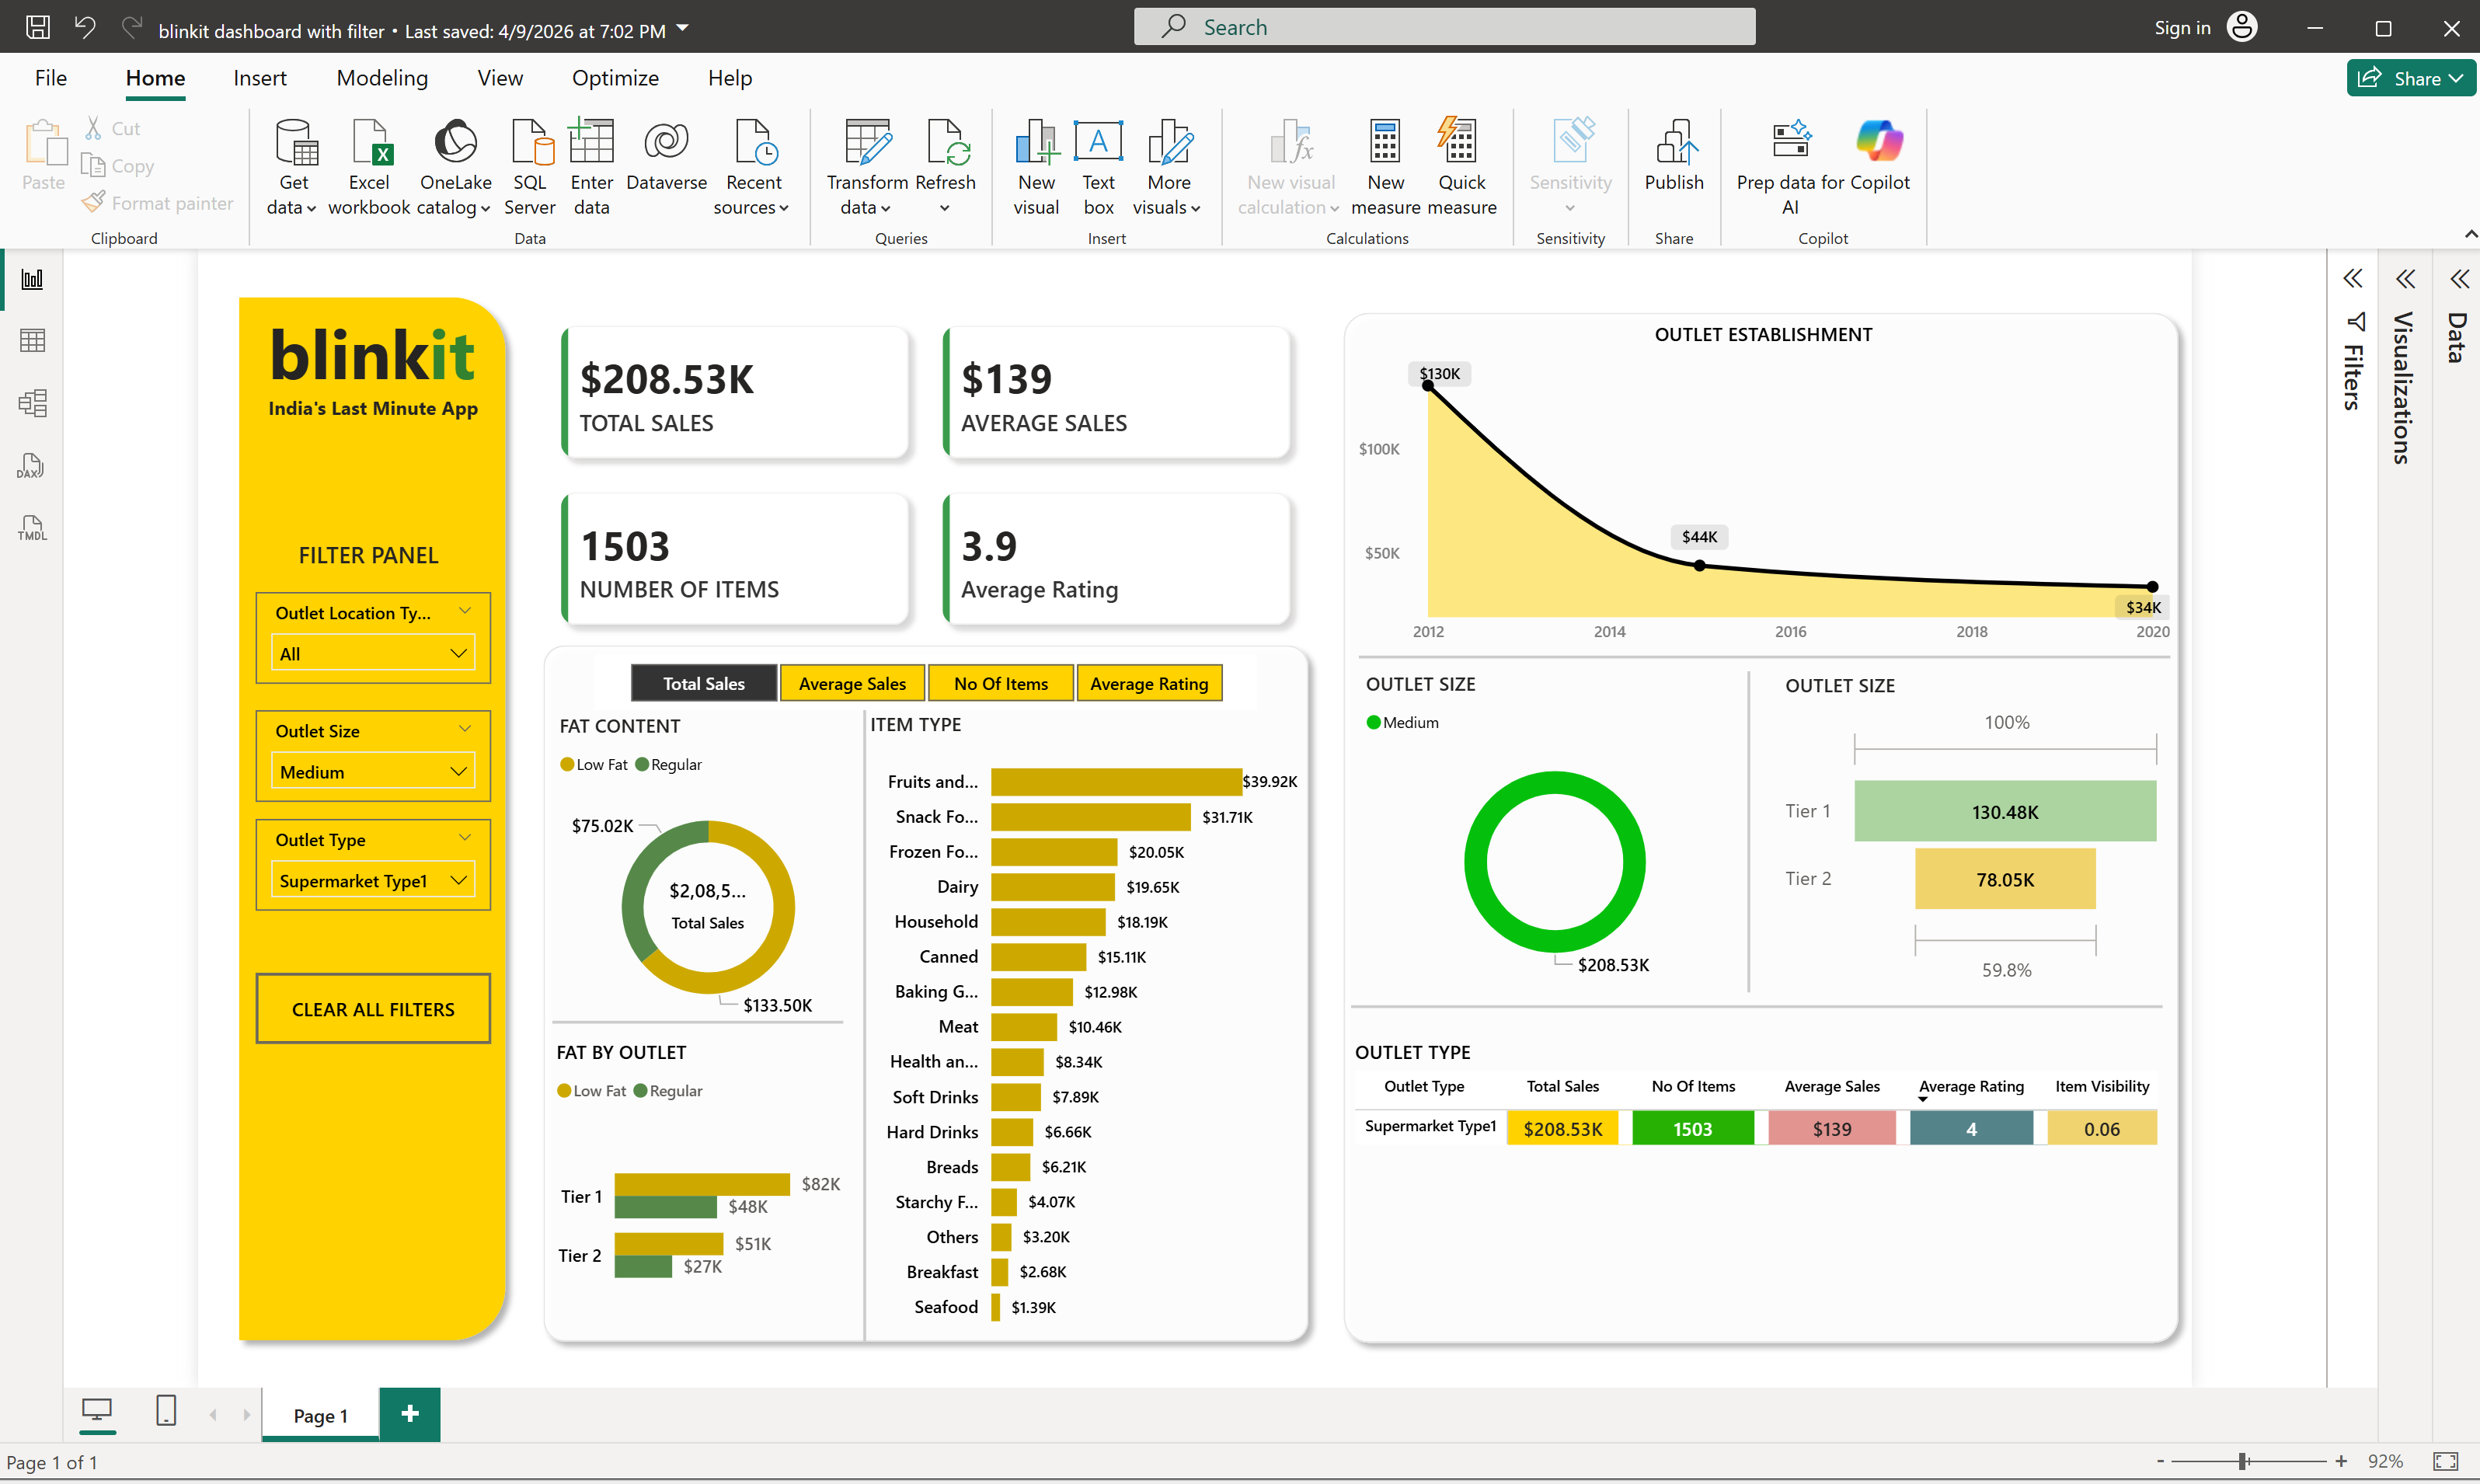

The page's visual inventory and layout, read from the dashboard file:
{"tool":"powerbi","page":{"name":"Page 1","canvas":[1400,800],"ordinal":0},"visuals":[{"type":"shape","box":[19.7,25.3,205.2,750.6],"z":0},{"type":"textbox","box":[35.1,35.1,174.3,77.3],"z":1},{"type":"textbox","box":[35.7,97.1,174.3,30],"z":2},{"type":"cardVisual","fields":{"Data":["BlinkIT Grocery Data.Total Sales","BlinkIT Grocery Data.Average Sales","BlinkIT Grocery Data.No Of Items","BlinkIT Grocery Data.Average Rating"]},"box":[226.3,25.3,570.7,269.9],"z":3},{"type":"shape","box":[233.3,269.9,555.2,507],"z":4},{"type":"donutChart","title":"FAT CONTENT","fields":{"Category":["BlinkIT Grocery Data.Item Fat Content"],"Y":["BlinkIT Grocery Data.Total Sales"]},"box":[248.8,324.7,219.3,230.5],"z":5},{"type":"slicer","fields":{"Values":["Matrics.Matrics"]},"box":[278.3,285.3,465.3,39.4],"z":6},{"type":"card","fields":{"Values":["BlinkIT Grocery Data.Total Sales"]},"box":[322.9,430,70,60],"z":8},{"type":"clusteredBarChart","title":"FAT BY OUTLET","fields":{"Category":["BlinkIT Grocery Data.Outlet Location Type"],"Series":["BlinkIT Grocery Data.Item Fat Content"],"Y":["BlinkIT Grocery Data.Total Sales"]},"box":[247.1,554.3,220,212.9],"z":9},{"type":"shape","box":[248.6,532.9,204.3,21.4],"z":10},{"type":"shape","box":[447.1,324.3,41.4,444.3],"z":11},{"type":"barChart","title":"ITEM TYPE","fields":{"Y":["BlinkIT Grocery Data.Total Sales"],"Category":["BlinkIT Grocery Data.Item Type"]},"box":[467.1,324.3,310,444.3],"z":12},{"type":"shape","box":[795.7,35.7,604.3,741.4],"z":13},{"type":"lineChart","title":"OUTLET ESTABLISHMENT","fields":{"Y":["BlinkIT Grocery Data.Total Sales"],"Category":["BlinkIT Grocery Data.Outlet Establishment Year"]},"box":[810,50,580,235.7],"z":14},{"type":"shape","box":[815.7,275.7,570,21.4],"z":15},{"type":"donutChart","title":"OUTLET SIZE","fields":{"Y":["BlinkIT Grocery Data.Total Sales"],"Category":["BlinkIT Grocery Data.Outlet Size"]},"box":[815.7,295.7,275.7,225.7],"z":16},{"type":"funnel","title":"OUTLET SIZE","fields":{"Y":["Sum(BlinkIT Grocery Data.Sales)"],"Category":["BlinkIT Grocery Data.Outlet Location Type"]},"box":[1110,297.1,275.7,225.7],"z":17},{"type":"shape","box":[810,521.4,570,21.4],"z":18},{"type":"slicer","fields":{"Values":["BlinkIT Grocery Data.Outlet Location Type"]},"box":[40,241.4,165.7,64.3],"z":19},{"type":"slicer","fields":{"Values":["BlinkIT Grocery Data.Outlet Size"]},"box":[40,324.3,165.7,64.3],"z":20},{"type":"slicer","fields":{"Values":["BlinkIT Grocery Data.Outlet Type"]},"box":[40,400,165.7,64.3],"z":21},{"type":"textbox","box":[65.7,198.6,112.9,42.9],"z":22},{"type":"pivotTable","title":"OUTLET TYPE","fields":{"Rows":["BlinkIT Grocery Data.Outlet Type"],"Values":["BlinkIT Grocery Data.Total Sales","BlinkIT Grocery Data.No Of Items","BlinkIT Grocery Data.Average Sales","BlinkIT Grocery Data.Average Rating","Avg(BlinkIT Grocery Data.Item Visibility)"]},"box":[807.1,554.3,575.7,222.9],"z":23},{"type":"shape","box":[1068.6,297.1,41.4,225.7],"z":24},{"type":"actionButton","title":"cLEAR","box":[40,508.6,165.7,50],"z":25}]}

Visuals, with their boxes on the page's 1400x800 design canvas (x1, y1, x2, y2). These are canvas units, not pixel positions in the 2480x1484 screenshot, which may show the page scaled, cropped or inside an application window:
shape: 20:25:225:776
textbox: 35:35:209:112
textbox: 36:97:210:127
cardVisual - BlinkIT Grocery Data.Total Sales x BlinkIT Grocery Data.Average Sales: 226:25:797:295
shape: 233:270:788:777
"FAT CONTENT" donutChart: 249:325:468:555
slicer - Matrics.Matrics: 278:285:744:325
card - BlinkIT Grocery Data.Total Sales: 323:430:393:490
"FAT BY OUTLET" clusteredBarChart: 247:554:467:767
shape: 249:533:453:554
shape: 447:324:488:769
"ITEM TYPE" barChart: 467:324:777:769
shape: 796:36:1400:777
"OUTLET ESTABLISHMENT" lineChart: 810:50:1390:286
shape: 816:276:1386:297
"OUTLET SIZE" donutChart: 816:296:1091:521
"OUTLET SIZE" funnel: 1110:297:1386:523
shape: 810:521:1380:543
slicer - BlinkIT Grocery Data.Outlet Location Type: 40:241:206:306
slicer - BlinkIT Grocery Data.Outlet Size: 40:324:206:389
slicer - BlinkIT Grocery Data.Outlet Type: 40:400:206:464
textbox: 66:199:179:242
"OUTLET TYPE" pivotTable: 807:554:1383:777
shape: 1069:297:1110:523
"cLEAR" actionButton: 40:509:206:559
